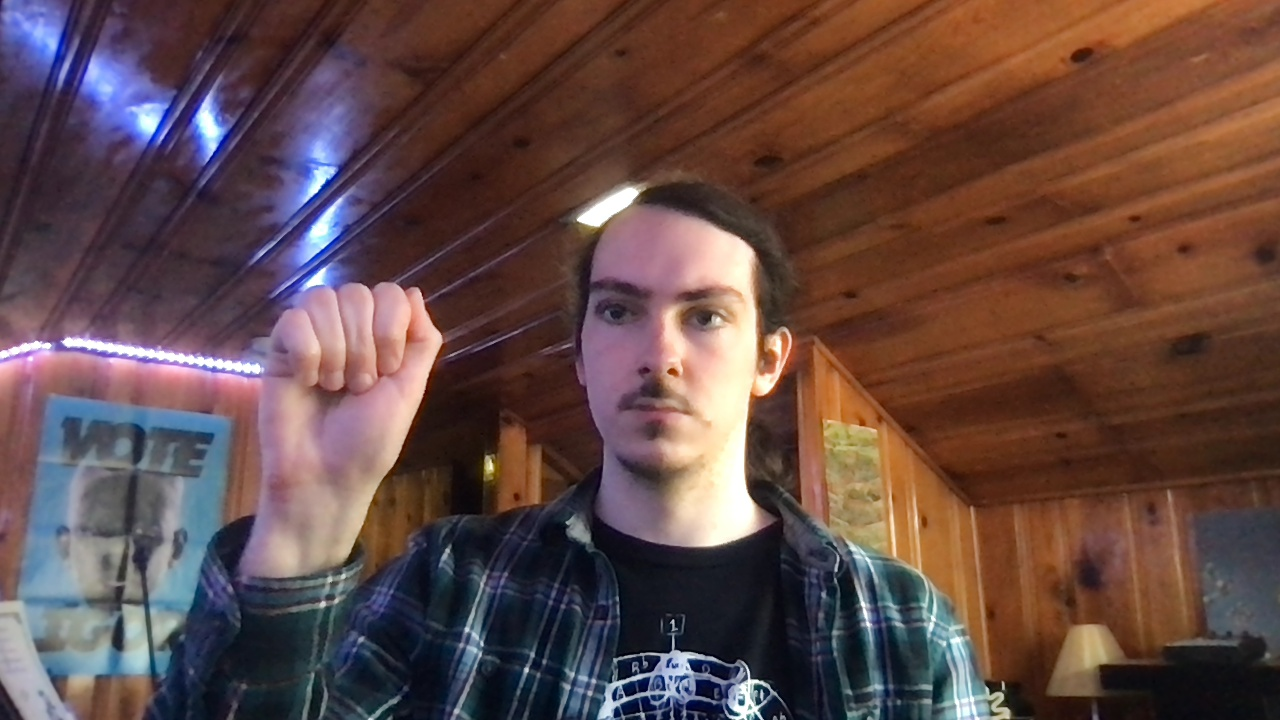a: (252, 279, 447, 494)
